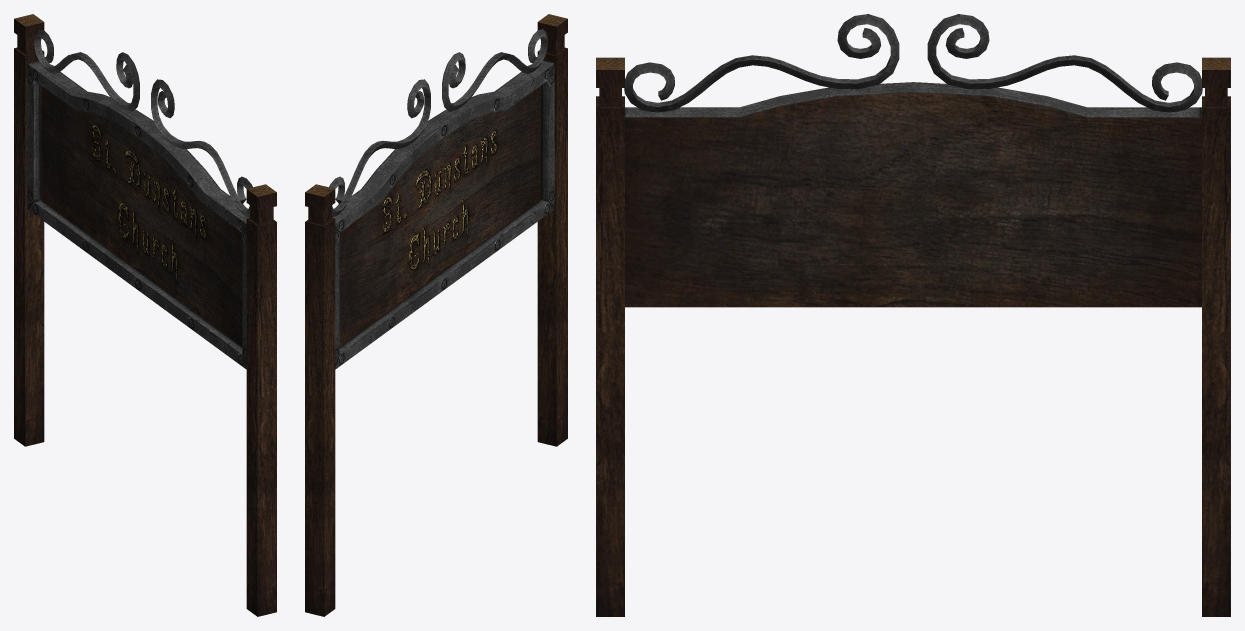
The model's file is church_sign.DAE.
3 renders of one model, left to right at view 1: azimuth 30°, elevation 25°; view 2: azimuth 150°, elevation 25°; view 3: azimuth 270°, elevation 25°, orthographic. The views are drawn at different scales.
Visible parts, largest first — view 1: Line001; view 2: Line001; view 3: Line001.
Part boxes in pixels (box(x1,y1,x2,y2)): Line001: box(14, 14, 276, 616); Line001: box(305, 14, 567, 616); Line001: box(596, 14, 1230, 616).
Bounding box in the file's own units: 0.05 × 1.1 × 1.14.
